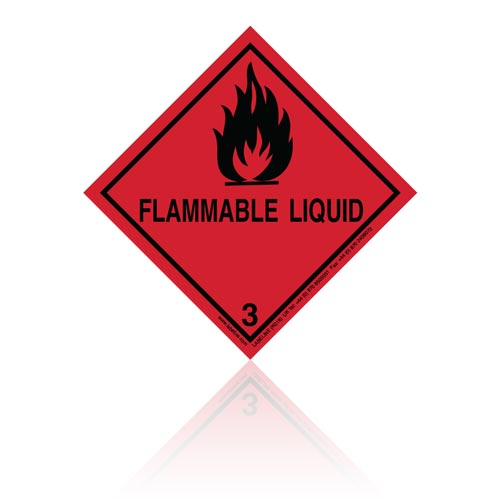FlammableLiquid: (94, 38, 413, 356)
